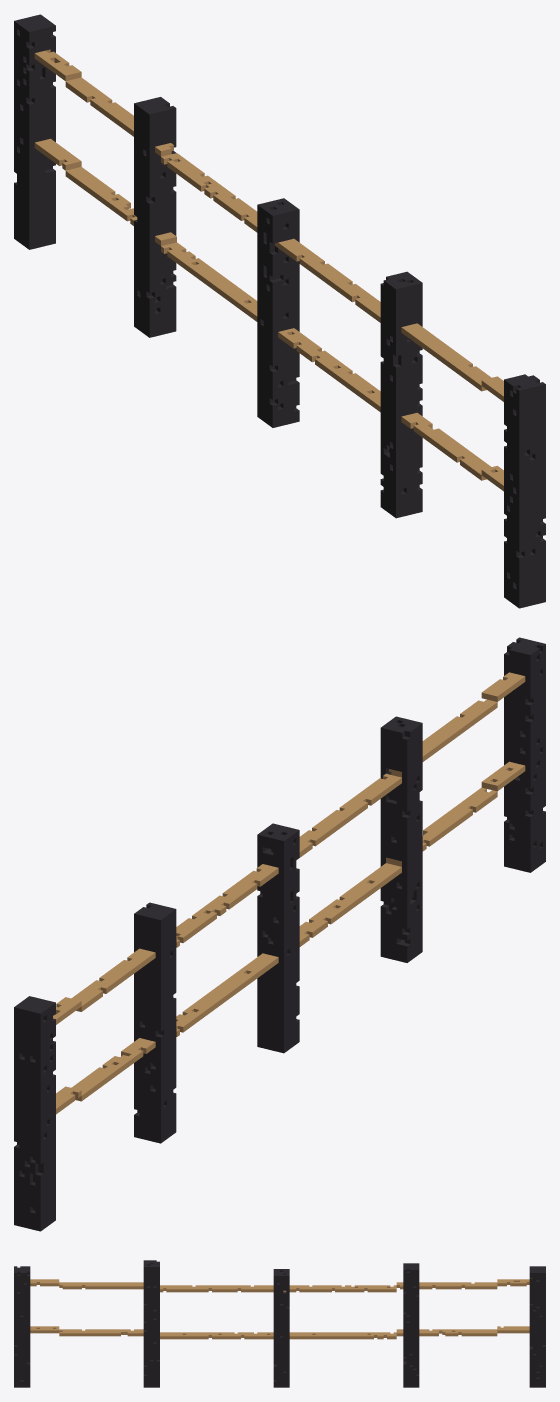
File: fence_island_0.obj
The picture shows the model from 3 angles, top to bottom: view 1: azimuth 30°, elevation 25°; view 2: azimuth 150°, elevation 25°; view 3: azimuth 270°, elevation 25°; orthographic projection. The views are drawn at different scales.
Bounding box in the file's own units: 0.125 × 1.02 × 4.1.
Materials: 1 (1 with a texture image).
